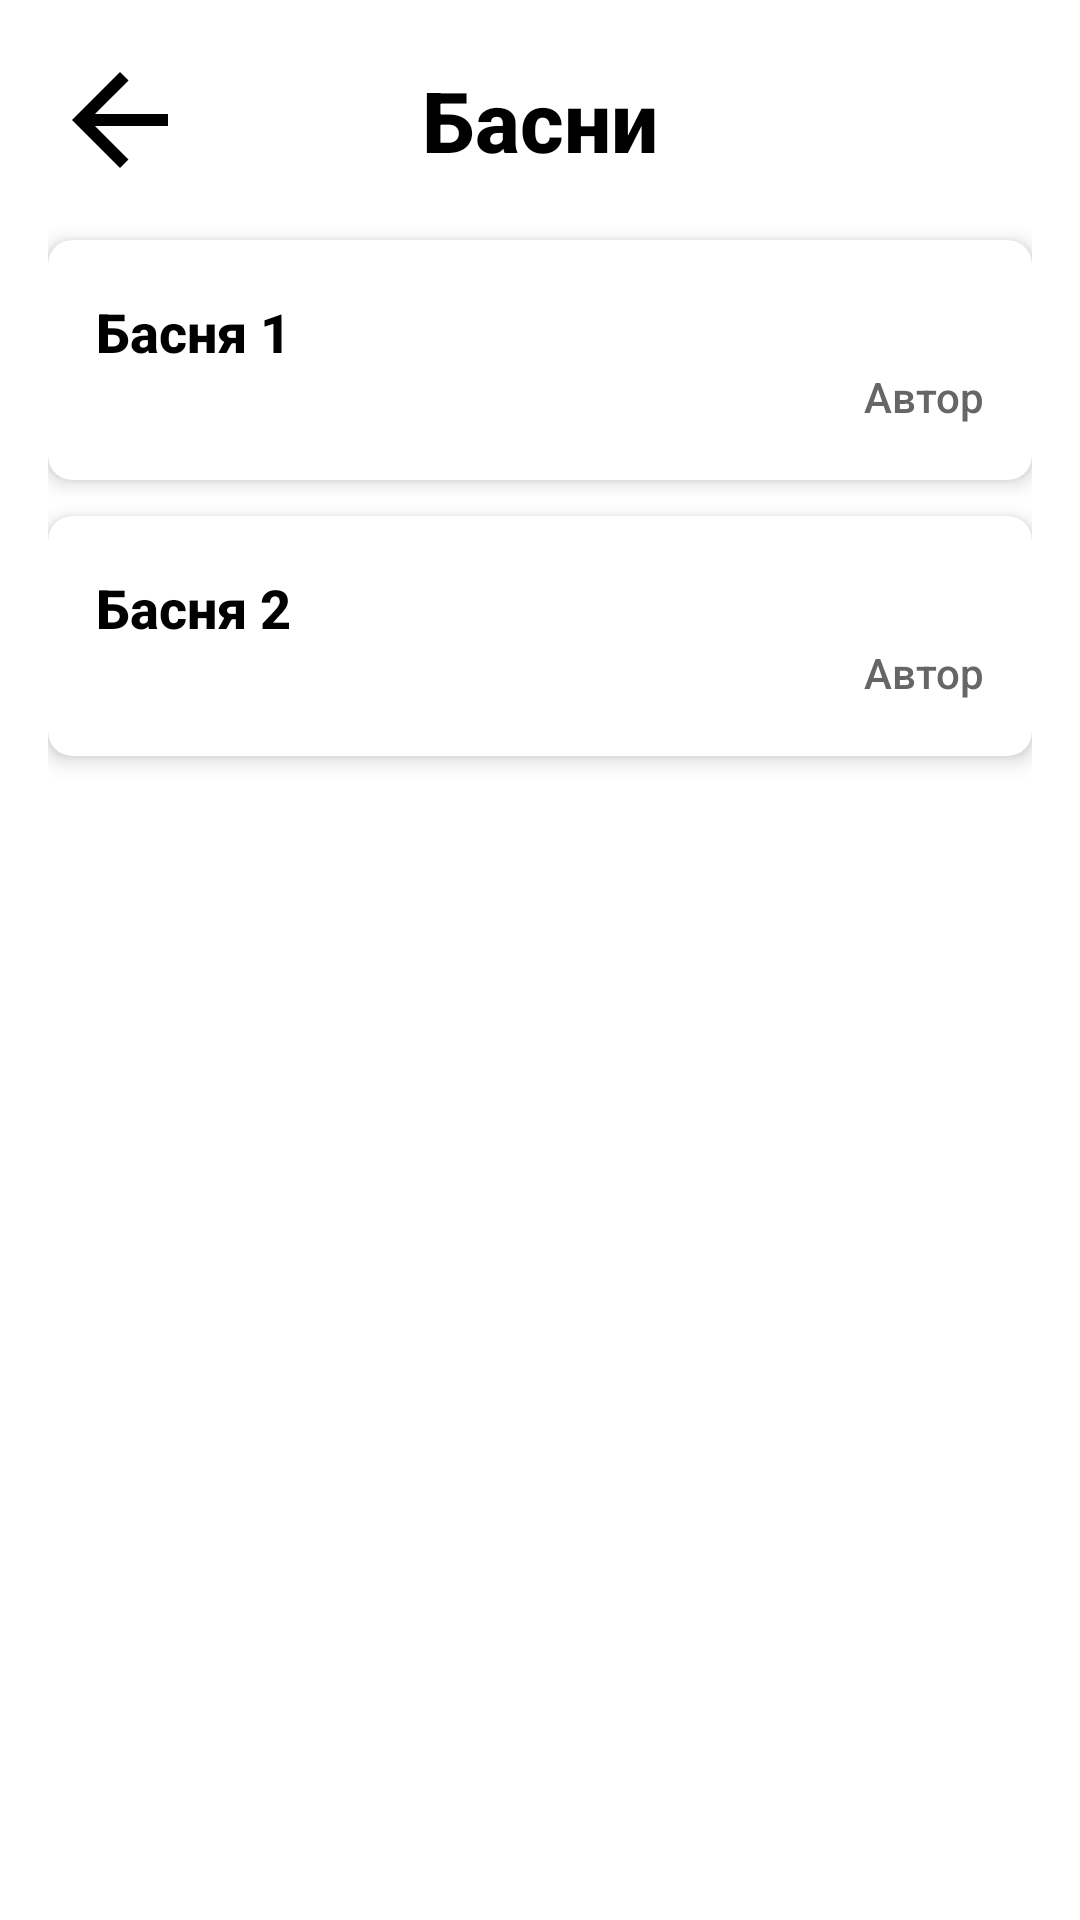

Icons on this 1080x1920 Android screen, each with the point to tap as (x,y):
Назад: (120,120)
